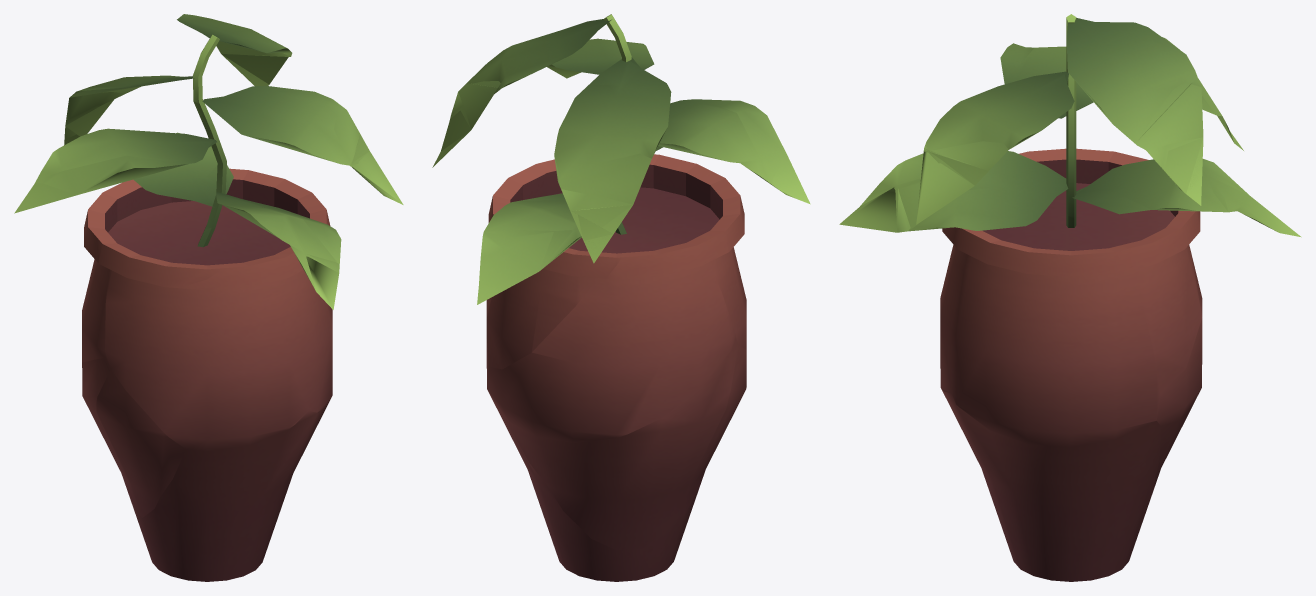
Rendered from M_plant_fragments.FBX.
The picture shows the model from 3 angles, left to right: view 1: azimuth 30°, elevation 25°; view 2: azimuth 150°, elevation 25°; view 3: azimuth 270°, elevation 25°; orthographic projection. The views are drawn at different scales.
Parts seen in each view (by area): view 1: Cylinder003_Part_8, Cylinder003_Part_1, Cylinder003_Part_9, Cylinder003_Part_7, Cylinder003_Part_4, Cylinder003_Part_6, Cylinder003_Part_3, Cylinder003_Part_10, Cylinder003_Part_5, Cylinder003_Part_2; view 2: Cylinder003_Part_10, Cylinder003_Part_9, Cylinder003_Part_2, Cylinder003_Part_5, Cylinder003_Part_8, Cylinder003_Part_7, Cylinder003_Part_1, Cylinder003_Part_6, Cylinder003_Part_4, Cylinder003_Part_3; view 3: Cylinder003_Part_4, Cylinder003_Part_1, Cylinder003_Part_7, Cylinder003_Part_9, Cylinder003_Part_5, Cylinder003_Part_8, Cylinder003_Part_10, Cylinder003_Part_6, Cylinder003_Part_2.
Boxes of the visible parts, bbox=[...] form: Cylinder003_Part_8: bbox=[95, 206, 339, 451]; Cylinder003_Part_1: bbox=[136, 406, 326, 581]; Cylinder003_Part_9: bbox=[36, 41, 290, 238]; Cylinder003_Part_7: bbox=[135, 14, 360, 166]; Cylinder003_Part_4: bbox=[199, 135, 403, 412]; Cylinder003_Part_6: bbox=[14, 155, 308, 288]; Cylinder003_Part_3: bbox=[95, 369, 185, 517]; Cylinder003_Part_10: bbox=[82, 195, 188, 362]; Cylinder003_Part_5: bbox=[64, 76, 266, 228]; Cylinder003_Part_2: bbox=[82, 357, 136, 516]; Cylinder003_Part_10: bbox=[487, 240, 735, 442]; Cylinder003_Part_9: bbox=[441, 83, 769, 244]; Cylinder003_Part_2: bbox=[497, 339, 738, 550]; Cylinder003_Part_5: bbox=[432, 151, 622, 369]; Cylinder003_Part_8: bbox=[609, 154, 746, 349]; Cylinder003_Part_7: bbox=[467, 14, 667, 87]; Cylinder003_Part_1: bbox=[488, 391, 699, 581]; Cylinder003_Part_6: bbox=[702, 99, 810, 252]; Cylinder003_Part_4: bbox=[486, 64, 583, 386]; Cylinder003_Part_3: bbox=[675, 345, 746, 519]; Cylinder003_Part_4: bbox=[908, 150, 1160, 447]; Cylinder003_Part_1: bbox=[942, 390, 1160, 581]; Cylinder003_Part_7: bbox=[924, 14, 1197, 170]; Cylinder003_Part_9: bbox=[996, 37, 1227, 235]; Cylinder003_Part_5: bbox=[1110, 125, 1301, 393]; Cylinder003_Part_8: bbox=[839, 160, 1096, 393]; Cylinder003_Part_10: bbox=[1083, 150, 1202, 426]; Cylinder003_Part_6: bbox=[871, 43, 1090, 193]; Cylinder003_Part_2: bbox=[1154, 406, 1192, 488].
Size of the model in its own units: 35.7 by 43.83 by 57.01.
